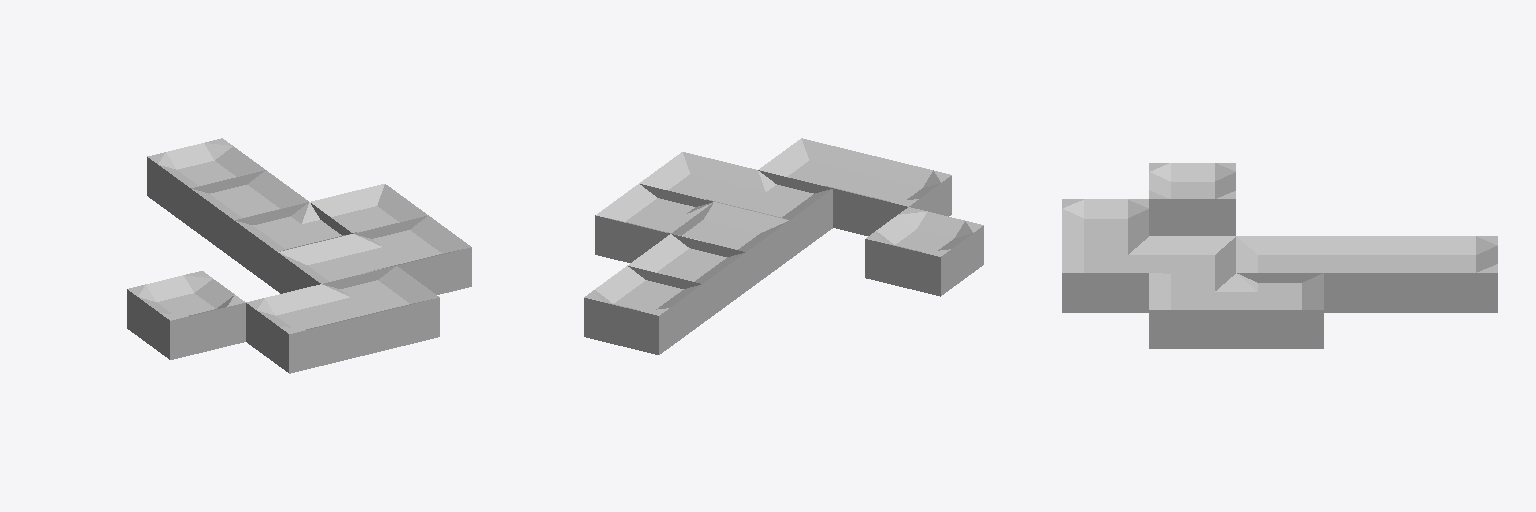
The model's file is 62s_path.obj.
3 views of the same model, side by side, from view 1: azimuth 30°, elevation 25°; view 2: azimuth 150°, elevation 25°; view 3: azimuth 270°, elevation 25° (orthographic).
Visible parts, largest first — view 1: hole.0.1_Cube.274, ending.1.0_ending.545, corner.2.0_corner.1350, corner.3.1_corner.1353, through.2.3_through.284, ending.2.4_ending.546, corner.2.2_corner.1352, corner.2.1_corner.1351, corner.3.2_corner.1354; view 2: hole.0.1_Cube.274, ending.2.4_ending.546, ending.1.0_ending.545, through.2.3_through.284, corner.3.2_corner.1354, corner.2.2_corner.1352, corner.2.1_corner.1351, corner.3.1_corner.1353, corner.2.0_corner.1350; view 3: through.2.3_through.284, ending.2.4_ending.546, hole.0.1_Cube.274, corner.3.2_corner.1354, corner.2.0_corner.1350, corner.3.1_corner.1353, ending.1.0_ending.545, corner.2.1_corner.1351, corner.2.2_corner.1352.
Part boxes in pixels (x1,y1,x2,y2): hole.0.1_Cube.274: (127, 271, 245, 359); ending.1.0_ending.545: (246, 284, 364, 373); corner.2.0_corner.1350: (322, 266, 439, 354); corner.3.1_corner.1353: (354, 215, 471, 294); through.2.3_through.284: (191, 170, 308, 258); ending.2.4_ending.546: (147, 138, 264, 227); corner.2.2_corner.1352: (234, 202, 350, 290); corner.2.1_corner.1351: (278, 234, 394, 293); corner.3.2_corner.1354: (310, 184, 427, 235); hole.0.1_Cube.274: (865, 207, 983, 296); ending.2.4_ending.546: (584, 266, 702, 354); ending.1.0_ending.545: (833, 157, 951, 235); through.2.3_through.284: (627, 234, 745, 322); corner.3.2_corner.1354: (595, 184, 713, 262); corner.2.2_corner.1352: (671, 202, 789, 290); corner.2.1_corner.1351: (717, 170, 832, 258); corner.3.1_corner.1353: (639, 152, 757, 206); corner.2.0_corner.1350: (758, 138, 876, 193); through.2.3_through.284: (1324, 236, 1410, 312); ending.2.4_ending.546: (1411, 236, 1497, 312); hole.0.1_Cube.274: (1149, 163, 1235, 235); corner.3.2_corner.1354: (1236, 273, 1323, 348); corner.2.0_corner.1350: (1062, 236, 1148, 312); corner.3.1_corner.1353: (1149, 273, 1235, 348); ending.1.0_ending.545: (1062, 199, 1148, 245); corner.2.1_corner.1351: (1149, 236, 1235, 282); corner.2.2_corner.1352: (1236, 236, 1323, 282).
Size of the model in its own units: 8 by 1 by 10.